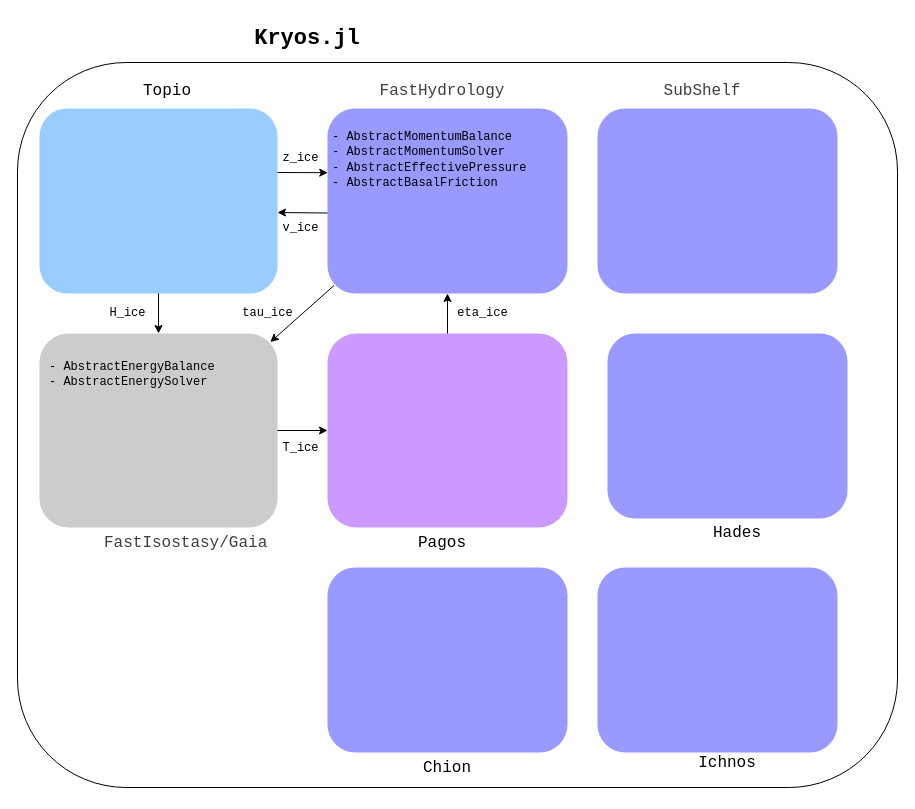
Image size: 915x809. Some labels were removed from this diagram. Here are the shapes that lost their labels. From the top down, the centre of each, then its label:
the point at 158,200: - AbstractSigmaTransform - AbstractCalving - AbstractAdvection - AbstractMask
the point at 447,430: - AbstractIceSheet
